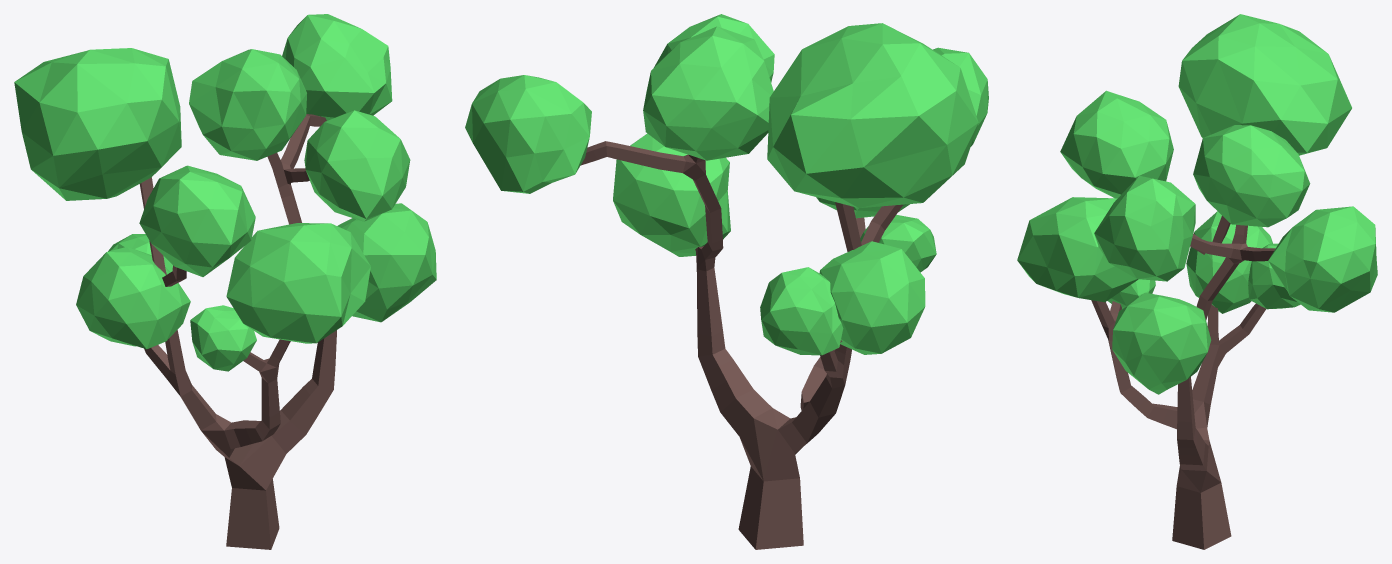
Rendered from tree.fbx.
The picture shows the model from 3 angles, left to right: view 1: azimuth 30°, elevation 25°; view 2: azimuth 150°, elevation 25°; view 3: azimuth 270°, elevation 25°; orthographic projection. The views are drawn at different scales.
Parts seen in each view (by area): view 1: Icosphere.004, trunk, Icosphere.006, Icosphere.001, Icosphere.003, Icosphere.002, Icosphere, Icosphere.008, Icosphere.005, Icosphere.007, Icosphere.009; view 2: Icosphere.004, trunk, Icosphere.001, Icosphere, Icosphere.008, Icosphere.005, Icosphere.009, Icosphere.007, Icosphere.003, Icosphere.002; view 3: Icosphere.004, trunk, Icosphere.001, Icosphere, Icosphere.003, Icosphere.002, Icosphere.006, Icosphere.005, Icosphere.008, Icosphere.009, Icosphere.007.
Part boxes in pixels (<box>): Icosphere.004: <box>14,48,181,200</box>; trunk: <box>139,114,336,549</box>; Icosphere.006: <box>226,223,370,343</box>; Icosphere.001: <box>189,49,306,160</box>; Icosphere.003: <box>139,165,255,276</box>; Icosphere.002: <box>304,110,410,221</box>; Icosphere: <box>282,14,392,120</box>; Icosphere.008: <box>76,246,190,349</box>; Icosphere.005: <box>337,203,436,322</box>; Icosphere.007: <box>190,305,256,371</box>; Icosphere.009: <box>108,234,172,271</box>; Icosphere.004: <box>767,23,978,207</box>; trunk: <box>580,141,902,549</box>; Icosphere.001: <box>643,26,773,160</box>; Icosphere: <box>465,75,591,193</box>; Icosphere.008: <box>819,241,925,354</box>; Icosphere.005: <box>613,133,730,256</box>; Icosphere.009: <box>760,267,843,355</box>; Icosphere.007: <box>860,215,936,272</box>; Icosphere.003: <box>933,47,988,146</box>; Icosphere.002: <box>654,14,774,82</box>; Icosphere.004: <box>1178,14,1351,155</box>; trunk: <box>1091,215,1275,549</box>; Icosphere.001: <box>1193,125,1310,227</box>; Icosphere: <box>1268,206,1377,312</box>; Icosphere.003: <box>1060,90,1173,198</box>; Icosphere.002: <box>1094,175,1195,281</box>; Icosphere.006: <box>1017,197,1138,302</box>; Icosphere.005: <box>1112,292,1211,394</box>; Icosphere.008: <box>1186,211,1272,313</box>; Icosphere.009: <box>1248,243,1300,309</box>; Icosphere.007: <box>1107,279,1155,308</box>.
Bounding box in the file's own units: 2.22 × 2.69 × 1.92.
